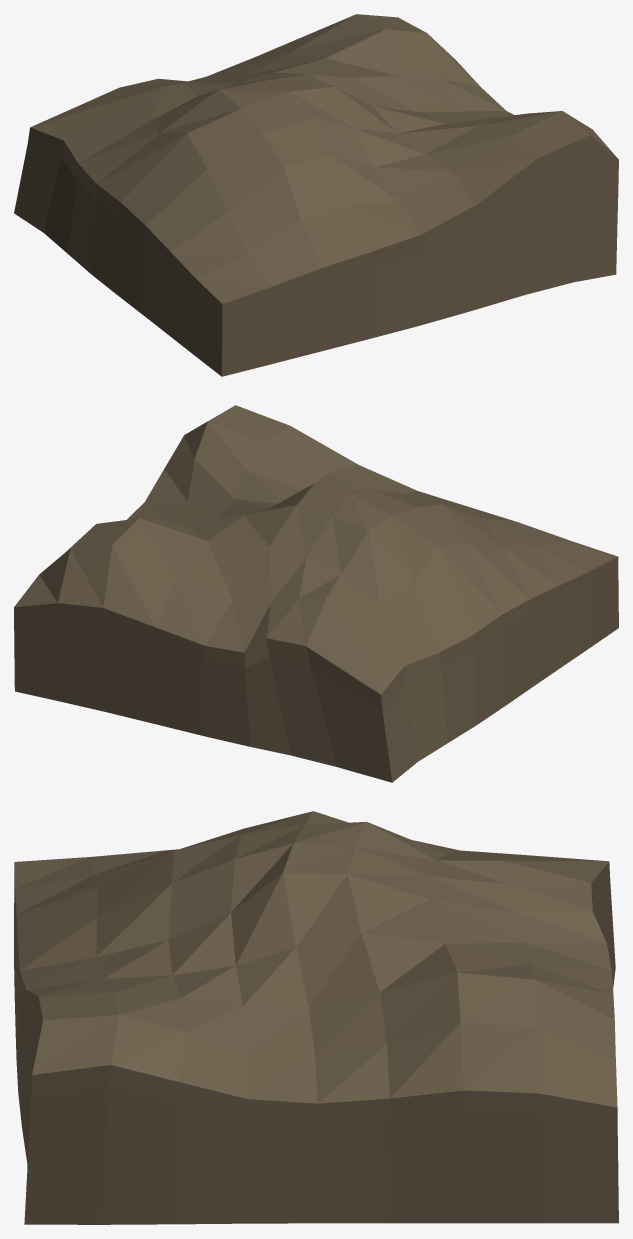
Rendered from MO_Ground_4.fbx.
The picture shows the model from 3 angles, top to bottom: view 1: azimuth 30°, elevation 25°; view 2: azimuth 150°, elevation 25°; view 3: azimuth 270°, elevation 25°; orthographic projection. The views are drawn at different scales.
Parts seen in each view (by area): view 1: ground.003; view 2: ground.003; view 3: ground.003.
Part boxes in pixels (x1,y1,x2,y2): ground.003: [14, 14, 618, 376]; ground.003: [14, 405, 618, 782]; ground.003: [14, 811, 618, 1224].
Size of the model in its own units: 192 by 76.31 by 180.
